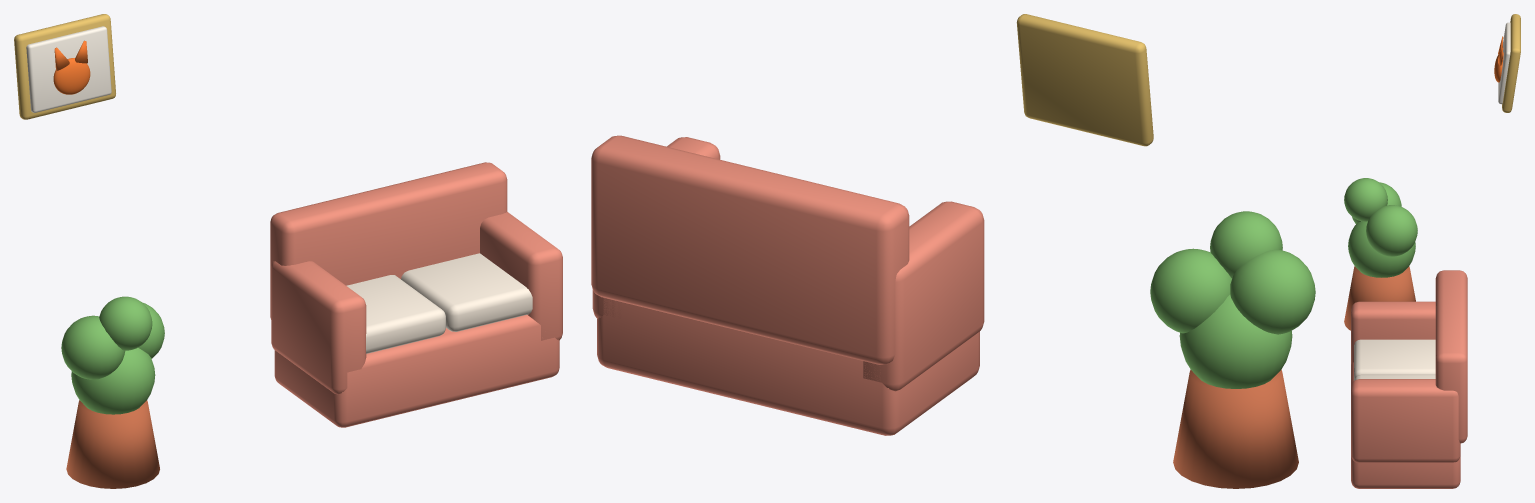
File: room-sala.glb
3 renders of one model, left to right at view 1: azimuth 30°, elevation 25°; view 2: azimuth 150°, elevation 25°; view 3: azimuth 270°, elevation 25°, orthographic. The views are drawn at different scales.
Visible parts, largest first — view 1: RoomSala, Quadro; view 2: RoomSala, Quadro; view 3: RoomSala, Quadro.
Boxes of the visible parts, x1=… form: RoomSala: x1=61, y1=162, x2=562, y2=488; Quadro: x1=14, y1=14, x2=115, y2=119; RoomSala: x1=591, y1=135, x2=1315, y2=488; Quadro: x1=1016, y1=14, x2=1153, y2=146; RoomSala: x1=1344, y1=178, x2=1467, y2=488; Quadro: x1=1494, y1=14, x2=1520, y2=112.
Size of the model in its own units: 2.27 by 1.68 by 0.887.
